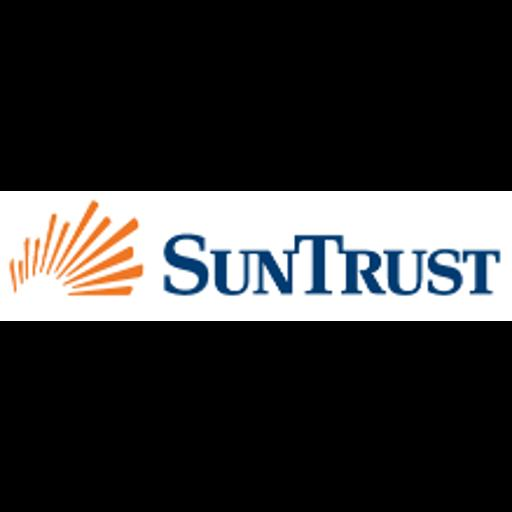SunTrust Bank: (0, 191, 512, 321)
